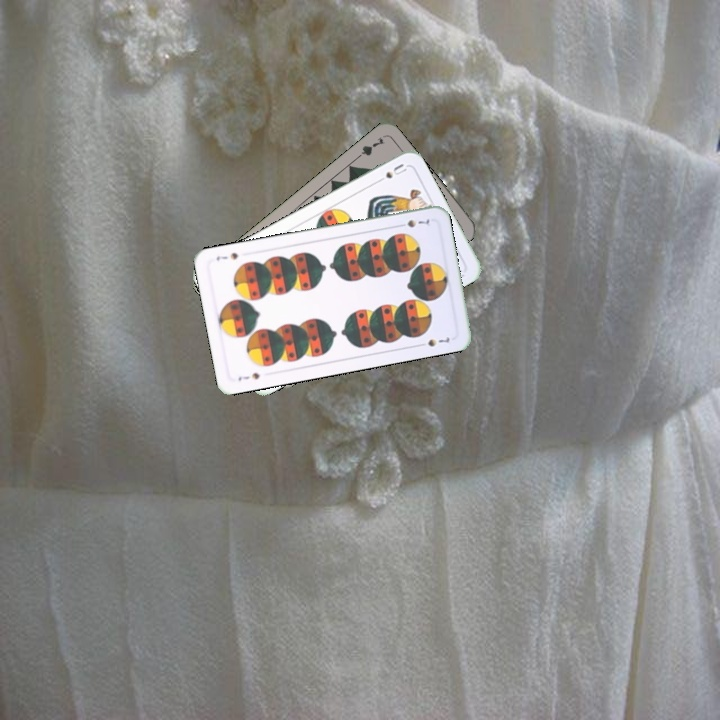G7: (351, 133, 388, 163)
S7: (394, 215, 434, 230), (234, 368, 262, 384)
SU: (371, 159, 409, 186)
